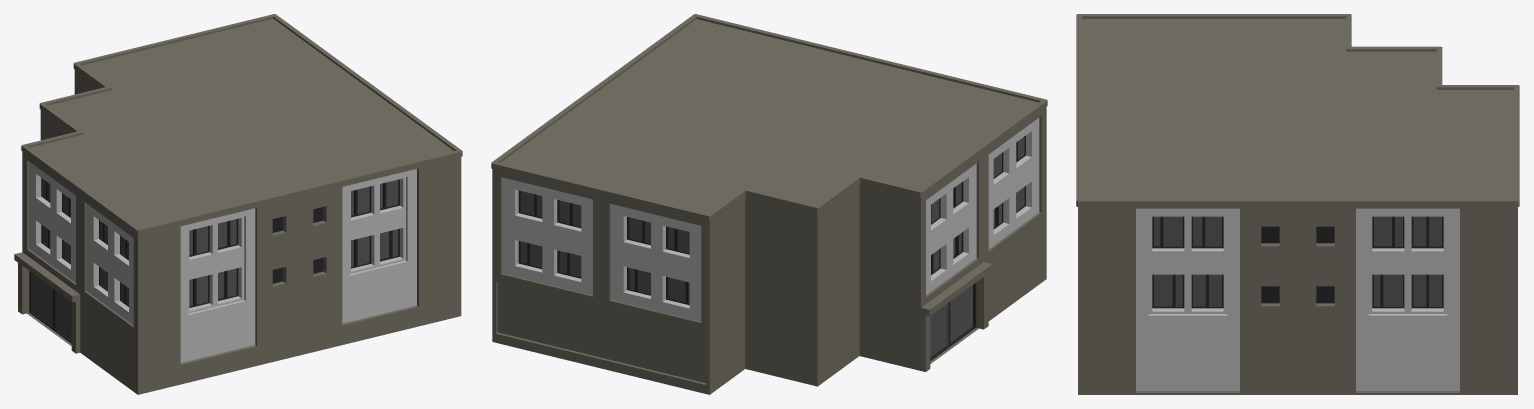
The model's file is archives.gltf.
The picture shows the model from 3 angles, left to right: view 1: azimuth 30°, elevation 25°; view 2: azimuth 150°, elevation 25°; view 3: azimuth 270°, elevation 25°; orthographic projection. The views are drawn at different scales.
Visible parts, largest first — view 1: anglais; view 2: anglais; view 3: anglais.
Part boxes in pixels (left/top/right/bottom): anglais: left=14, top=14, right=462, bottom=394; anglais: left=491, top=14, right=1047, bottom=394; anglais: left=1076, top=14, right=1519, bottom=394.
Size of the model in its own units: 40.31 by 19.1 by 39.47.
Materials: 1 (1 with a texture image).
